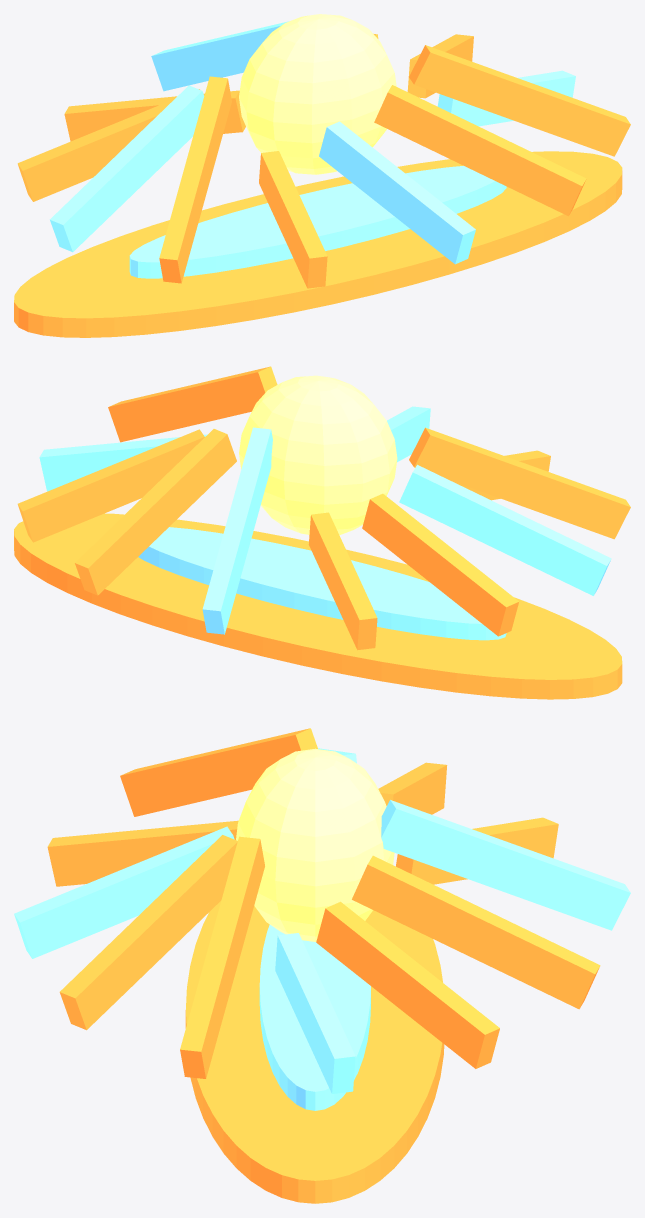
Rendered from elite_affix_break.glb.
3 renders of one model, top to bottom at view 1: azimuth 30°, elevation 25°; view 2: azimuth 150°, elevation 25°; view 3: azimuth 270°, elevation 25°, orthographic. The views are drawn at different scales.
Parts seen in each view (by area): view 1: elite affix break outer seal, elite affix break heart, elite affix break inner seal, elite affix break lash 11, elite affix break lash 10, elite affix break lash 6, elite affix break lash 9, elite affix break lash 7, elite affix break lash 5, elite affix break lash 8, elite affix break lash 3, elite affix break lash 4 (+2 smaller); view 2: elite affix break outer seal, elite affix break heart, elite affix break inner seal, elite affix break lash 6, elite affix break lash 7, elite affix break lash 2, elite affix break lash 5, elite affix break lash 1, elite affix break lash 11, elite affix break lash 3, elite affix break lash 4, elite affix break lash 0 (+2 smaller); view 3: elite affix break outer seal, elite affix break heart, elite affix break lash 2, elite affix break lash 3, elite affix break lash 10, elite affix break lash 1, elite affix break inner seal, elite affix break lash 9, elite affix break lash 11, elite affix break lash 7, elite affix break lash 0, elite affix break lash 8 (+2 smaller).
Part boxes in pixels (x1,y1,x2,y2): elite affix break outer seal: (14, 151, 622, 337); elite affix break heart: (239, 14, 396, 174); elite affix break inner seal: (129, 165, 506, 278); elite affix break lash 11: (409, 45, 630, 156); elite affix break lash 10: (374, 85, 586, 216); elite affix break lash 6: (50, 85, 204, 252); elite affix break lash 9: (319, 121, 475, 264); elite affix break lash 7: (159, 76, 231, 283); elite affix break lash 5: (17, 89, 199, 201); elite affix break lash 8: (259, 151, 327, 288); elite affix break lash 3: (151, 21, 288, 91); elite affix break lash 4: (64, 90, 245, 141); elite affix break outer seal: (14, 513, 622, 699); elite affix break heart: (239, 375, 397, 534); elite affix break inner seal: (138, 527, 506, 640); elite affix break lash 6: (399, 464, 611, 595); elite affix break lash 7: (409, 427, 630, 539); elite affix break lash 2: (75, 429, 236, 595); elite affix break lash 5: (362, 493, 518, 636); elite affix break lash 1: (17, 429, 204, 542); elite affix break lash 11: (108, 366, 277, 442); elite affix break lash 3: (202, 427, 272, 634); elite affix break lash 4: (308, 512, 377, 650); elite affix break lash 0: (39, 434, 207, 491); elite affix break outer seal: (185, 901, 444, 1203); elite affix break heart: (236, 748, 394, 941); elite affix break lash 2: (352, 855, 600, 1009); elite affix break lash 3: (381, 800, 630, 930); elite affix break lash 10: (59, 835, 237, 1030); elite affix break lash 1: (316, 901, 499, 1068); elite affix break inner seal: (259, 924, 370, 1110); elite affix break lash 9: (14, 826, 234, 958); elite affix break lash 11: (180, 836, 264, 1078); elite affix break lash 7: (120, 728, 317, 816); elite affix break lash 0: (275, 933, 355, 1093); elite affix break lash 8: (47, 820, 238, 886).
Size of the model in its own units: 0.96 by 0.36 by 0.7314.
